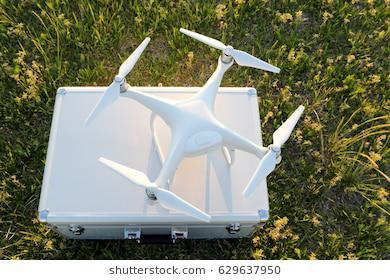drone: (81, 27, 306, 222)
